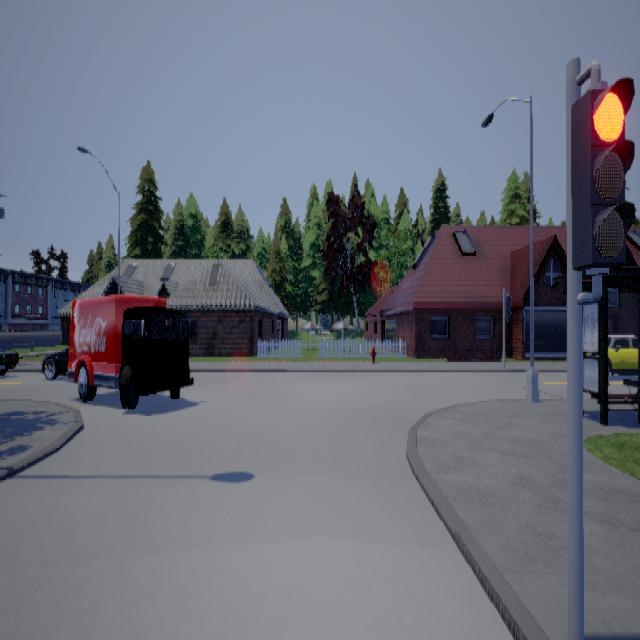red_light: (570, 59, 635, 303)
vehicle: (41, 293, 193, 408), (607, 333, 637, 374)
